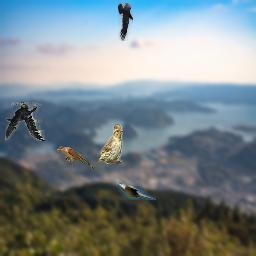Crow: (5, 102, 45, 141), (118, 2, 133, 41)
Cuckoo: (56, 146, 96, 169), (116, 182, 156, 200)
Sparrow: (97, 124, 123, 164)
